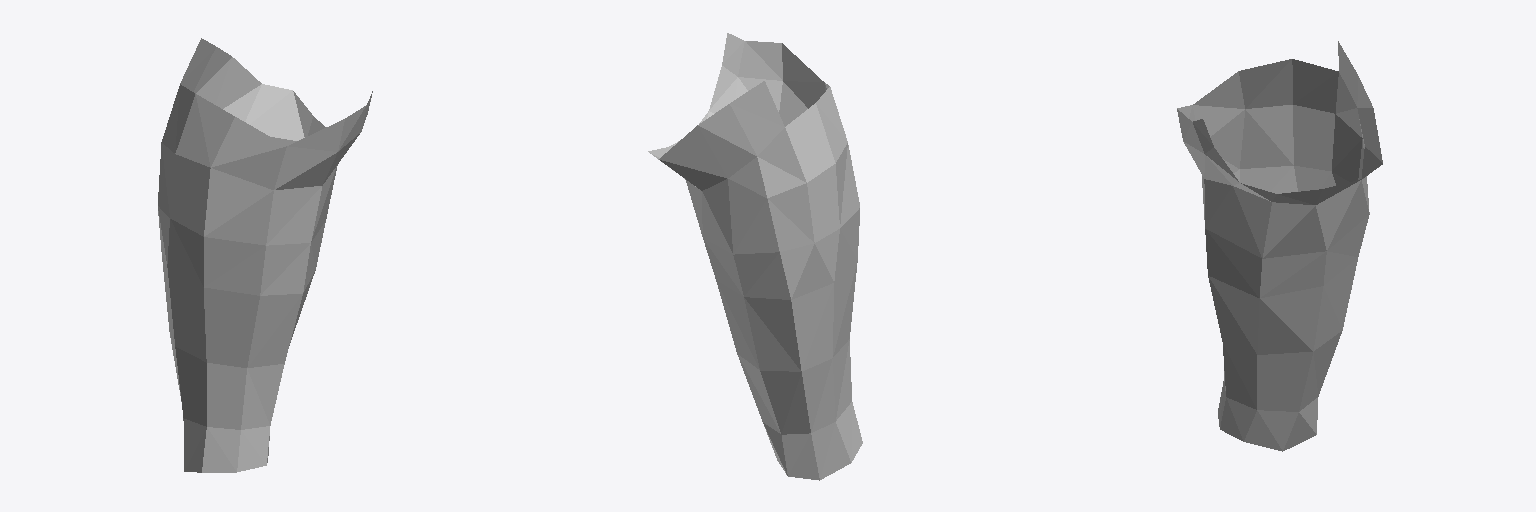
The model's file is MusloIKarma.obj.
The picture shows the model from 3 angles: view 1: azimuth 30°, elevation 25°; view 2: azimuth 150°, elevation 25°; view 3: azimuth 270°, elevation 25°; orthographic projection.
Visible parts, largest first — view 1: Muslo_Izq_Material.001; view 2: Muslo_Izq_Material.001; view 3: Muslo_Izq_Material.001.
Part boxes in pixels (bbox=[...]): Muslo_Izq_Material.001: bbox=[158, 38, 372, 472]; Muslo_Izq_Material.001: bbox=[648, 33, 862, 480]; Muslo_Izq_Material.001: bbox=[1177, 41, 1382, 451].
Size of the model in its own units: 20.73 by 50.92 by 23.46.